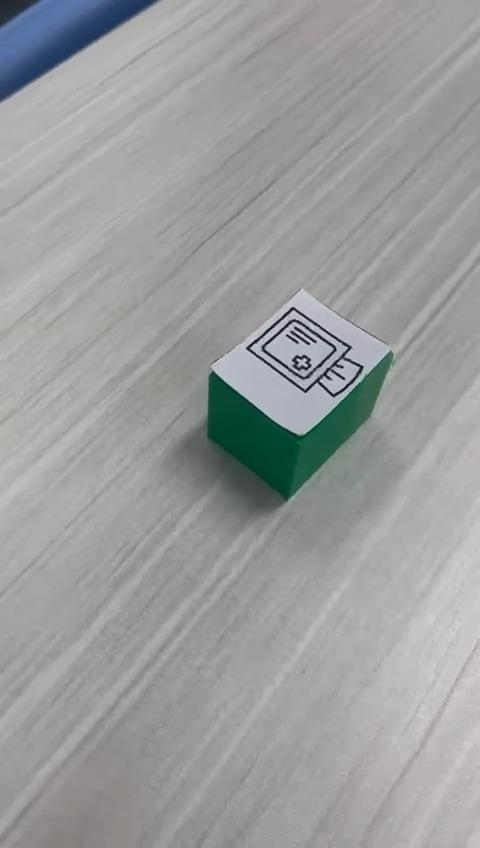Gauze: (205, 286, 394, 501)
